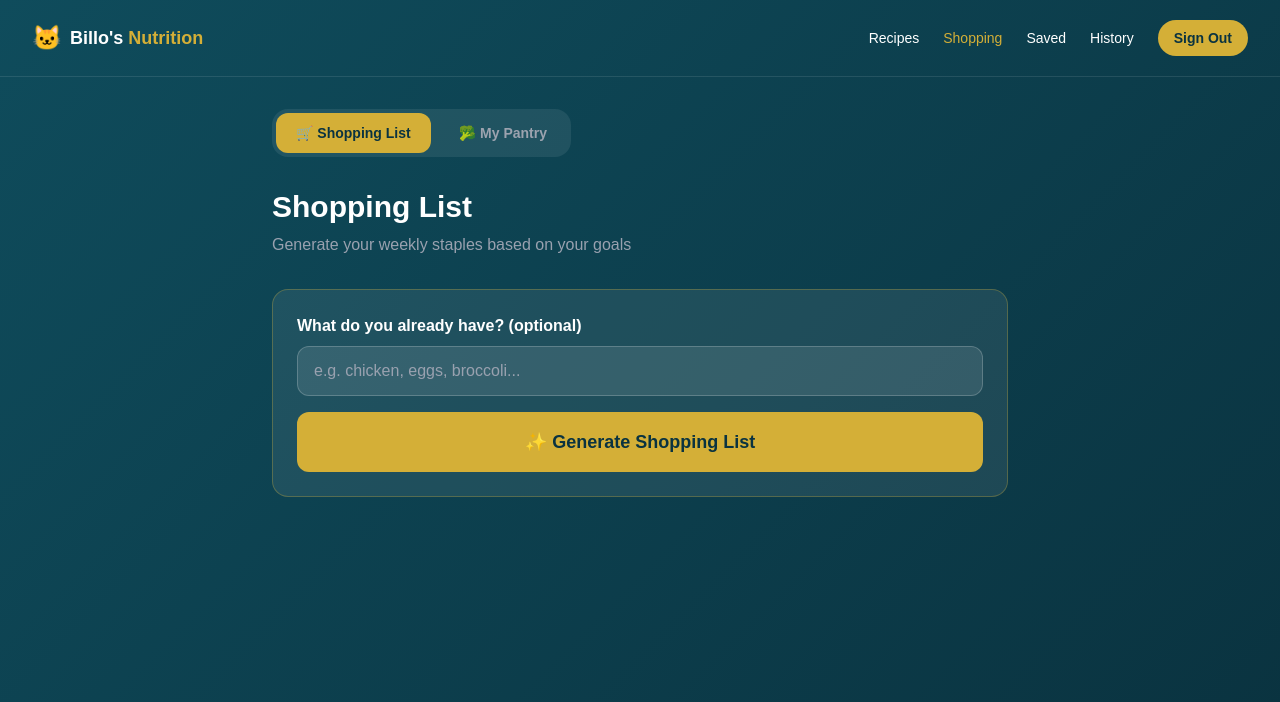
ShoppingPage — Shopping tab › saves shopping list
Click the button "✨ Generate Shopping List" at [640, 442], box [297, 412, 983, 472]
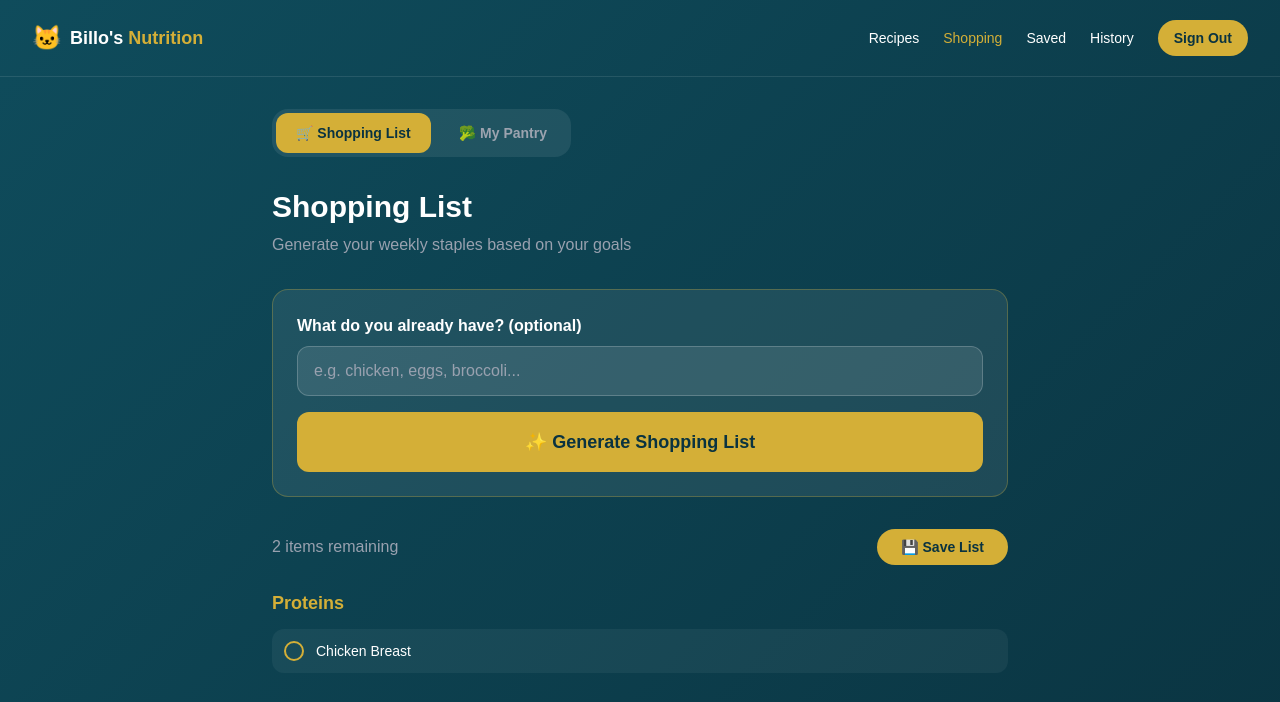
Check: the text "Chicken Breast" is shown, box [316, 641, 411, 661]
Click the button "💾 Save List" at [943, 547], box [877, 529, 1008, 565]
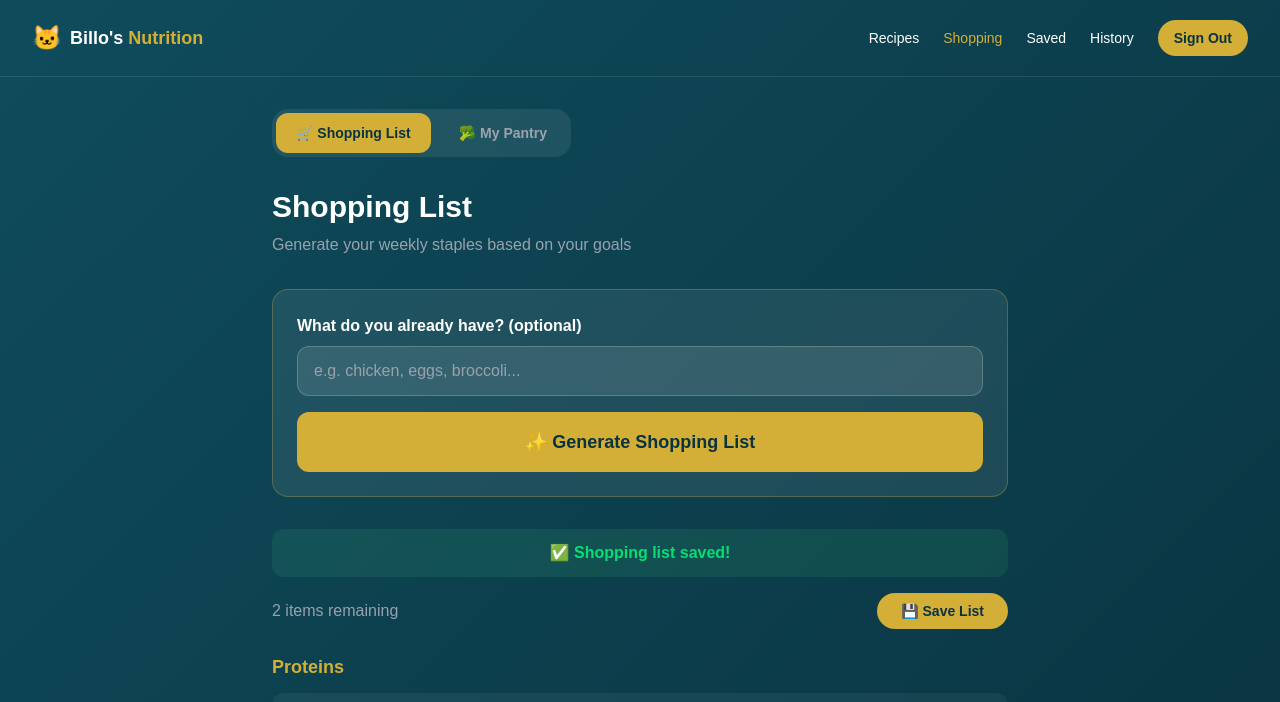
Check: the text "✅ Shopping list saved!" is shown, box [272, 529, 1008, 577]
